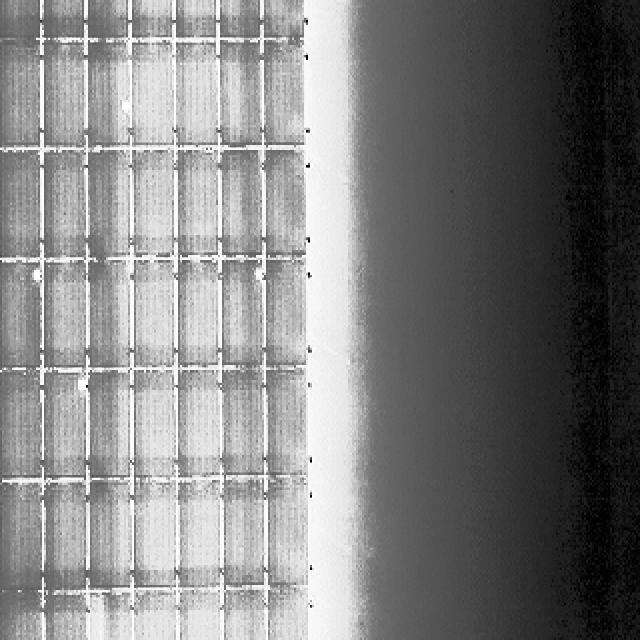Hotspots: (78, 376, 91, 397), (28, 266, 43, 282), (118, 97, 130, 116), (251, 266, 264, 280)
PV-modules: (258, 261, 306, 374), (259, 475, 307, 588), (259, 365, 307, 476), (42, 370, 90, 480), (41, 40, 88, 151), (258, 149, 305, 260), (42, 152, 89, 262), (216, 262, 262, 374), (41, 260, 88, 369), (126, 374, 172, 485), (174, 40, 220, 150), (85, 482, 131, 592), (43, 478, 88, 590), (85, 150, 130, 262), (125, 149, 170, 261), (2, 374, 46, 488), (216, 38, 262, 147), (123, 41, 169, 150), (84, 370, 130, 478), (85, 263, 130, 372), (222, 369, 267, 478), (131, 262, 176, 371), (177, 481, 222, 590), (220, 480, 264, 591), (130, 483, 175, 591), (175, 150, 220, 258), (218, 150, 262, 260), (263, 40, 307, 150), (177, 369, 221, 477), (177, 262, 220, 370), (86, 40, 128, 149), (0, 152, 40, 262), (0, 40, 40, 150), (0, 482, 40, 592), (0, 260, 40, 368), (176, 589, 226, 640), (220, 588, 266, 640), (44, 593, 93, 640), (266, 588, 310, 640), (132, 590, 176, 640), (0, 592, 42, 640), (126, 0, 174, 42), (91, 592, 133, 640), (40, 0, 86, 40), (214, 0, 260, 40), (86, 0, 130, 40), (0, 0, 40, 42), (174, 0, 216, 40), (254, 0, 300, 35)
